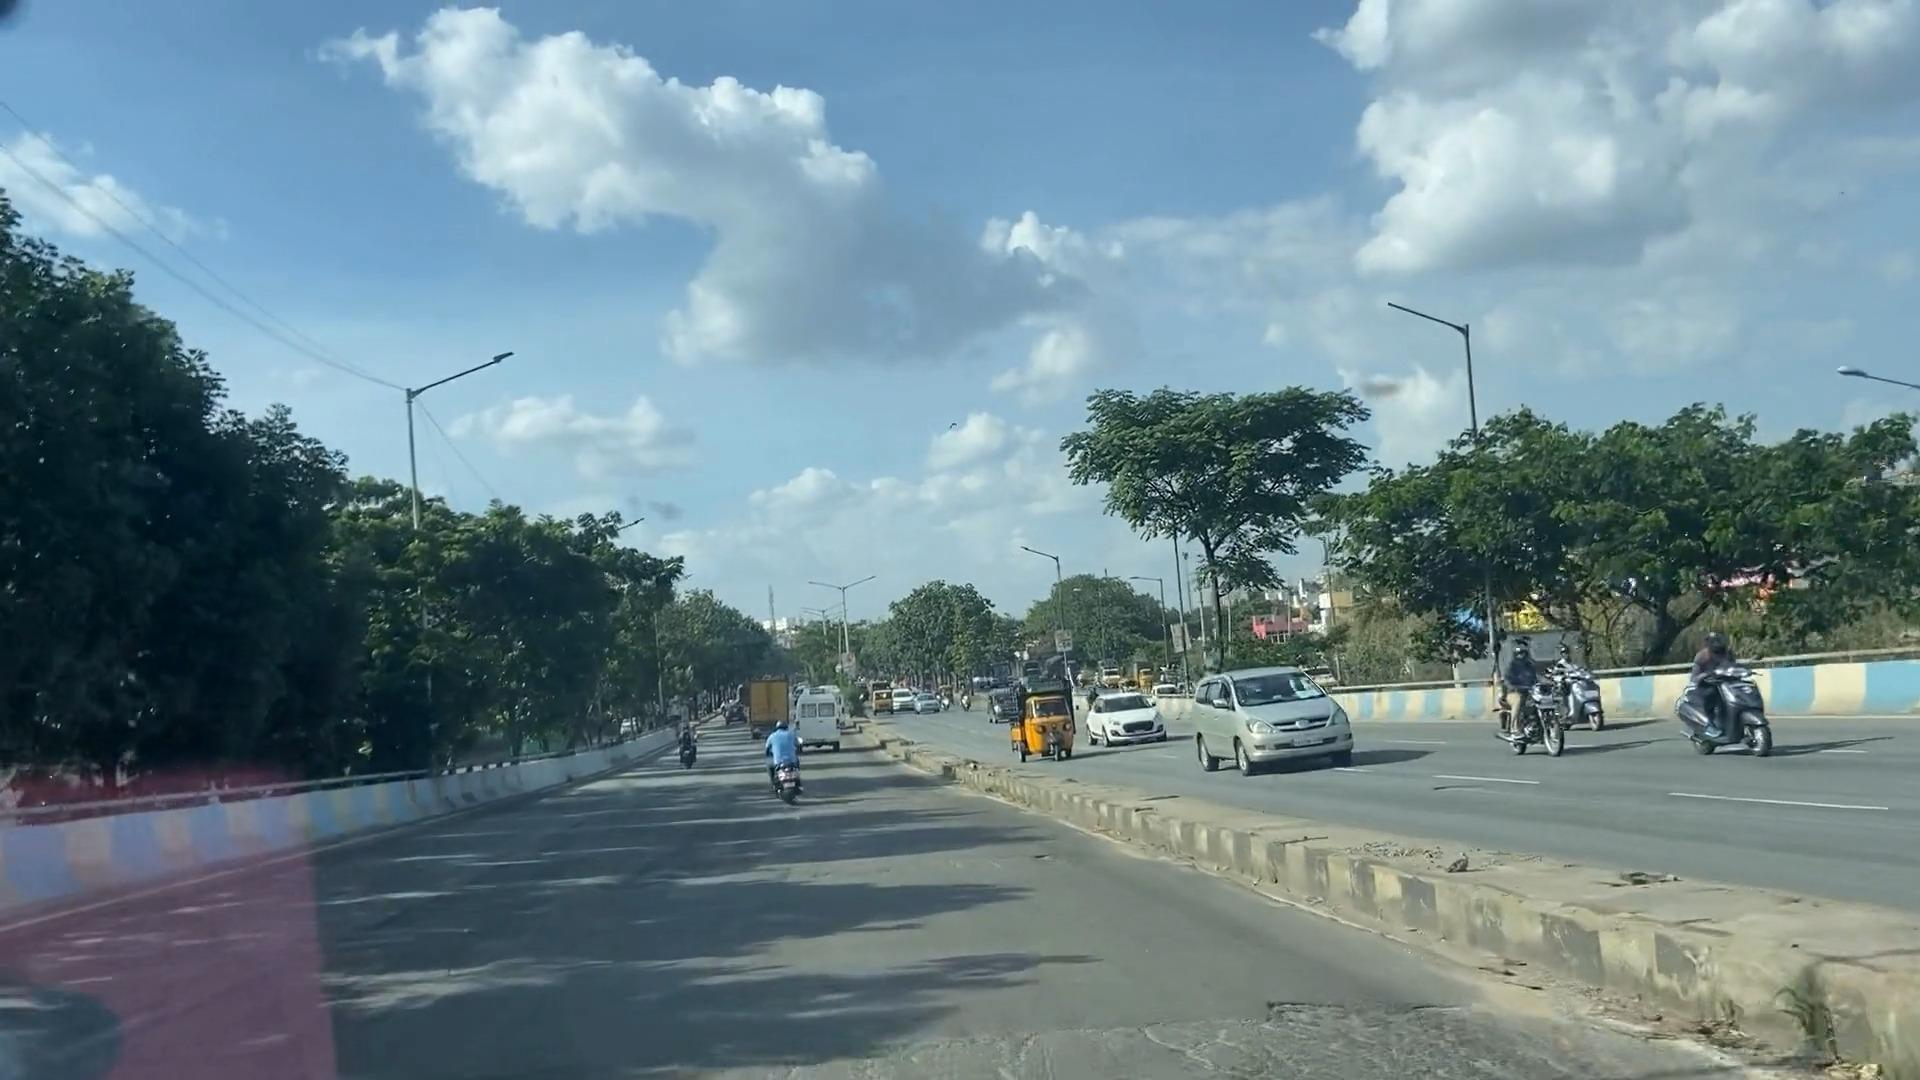HMV: (795, 676, 852, 748)
LMV: (761, 727, 810, 791)
RoadDamages: (704, 944, 1607, 1080)
